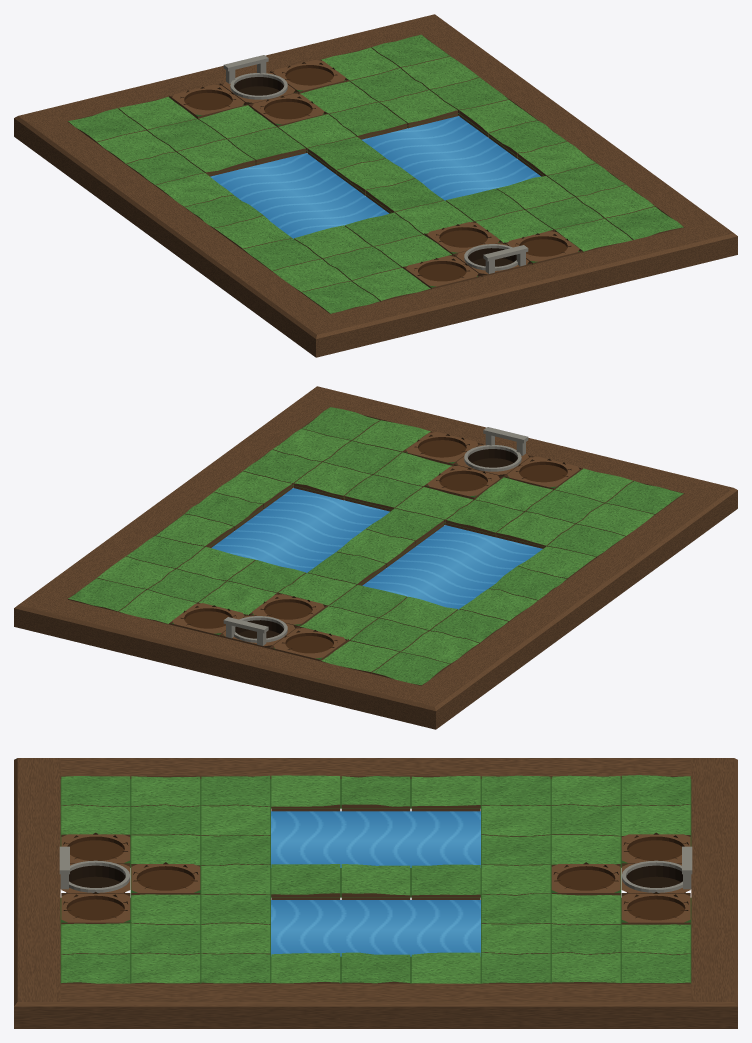
Rendered from board.glb.
3 views of the same model, one above another, from view 1: azimuth 30°, elevation 25°; view 2: azimuth 150°, elevation 25°; view 3: azimuth 270°, elevation 25° (orthographic). The views are drawn at different scales.
Visible parts, largest first — view 1: Soil, GrassA, GrassB, Water, TrapPit, TrapRim, Stone, DenPit; view 2: Soil, GrassA, GrassB, Water, TrapPit, TrapRim, Stone, DenPit; view 3: Soil, GrassA, GrassB, Water, TrapPit, TrapRim, Seam, Stone, DenPit.
Boxes of the visible parts, x1,y1,x2,y2 form: Soil: (14,14,737,357); GrassA: (97,47,654,300); GrassB: (68,34,683,313); Water: (210,116,540,238); TrapPit: (184,65,567,281); TrapRim: (172,60,579,286); Stone: (223,55,528,273); DenPit: (234,77,516,275); Soil: (14,386,737,729); GrassA: (97,420,654,671); GrassB: (68,407,683,685); Water: (211,488,542,609); TrapPit: (184,437,567,653); TrapRim: (172,432,579,658); Stone: (223,427,528,645); DenPit: (235,449,517,647); Soil: (14,758,737,1028); GrassA: (61,775,690,983); GrassB: (61,775,690,983); Water: (271,811,480,956); TrapPit: (66,836,685,920); TrapRim: (61,834,690,922); Seam: (60,779,691,983); Stone: (59,846,692,892); DenPit: (66,865,685,892).
Size of the model in its own units: 0.5 by 0.0445 by 0.62.
10 materials, 5 textured.
